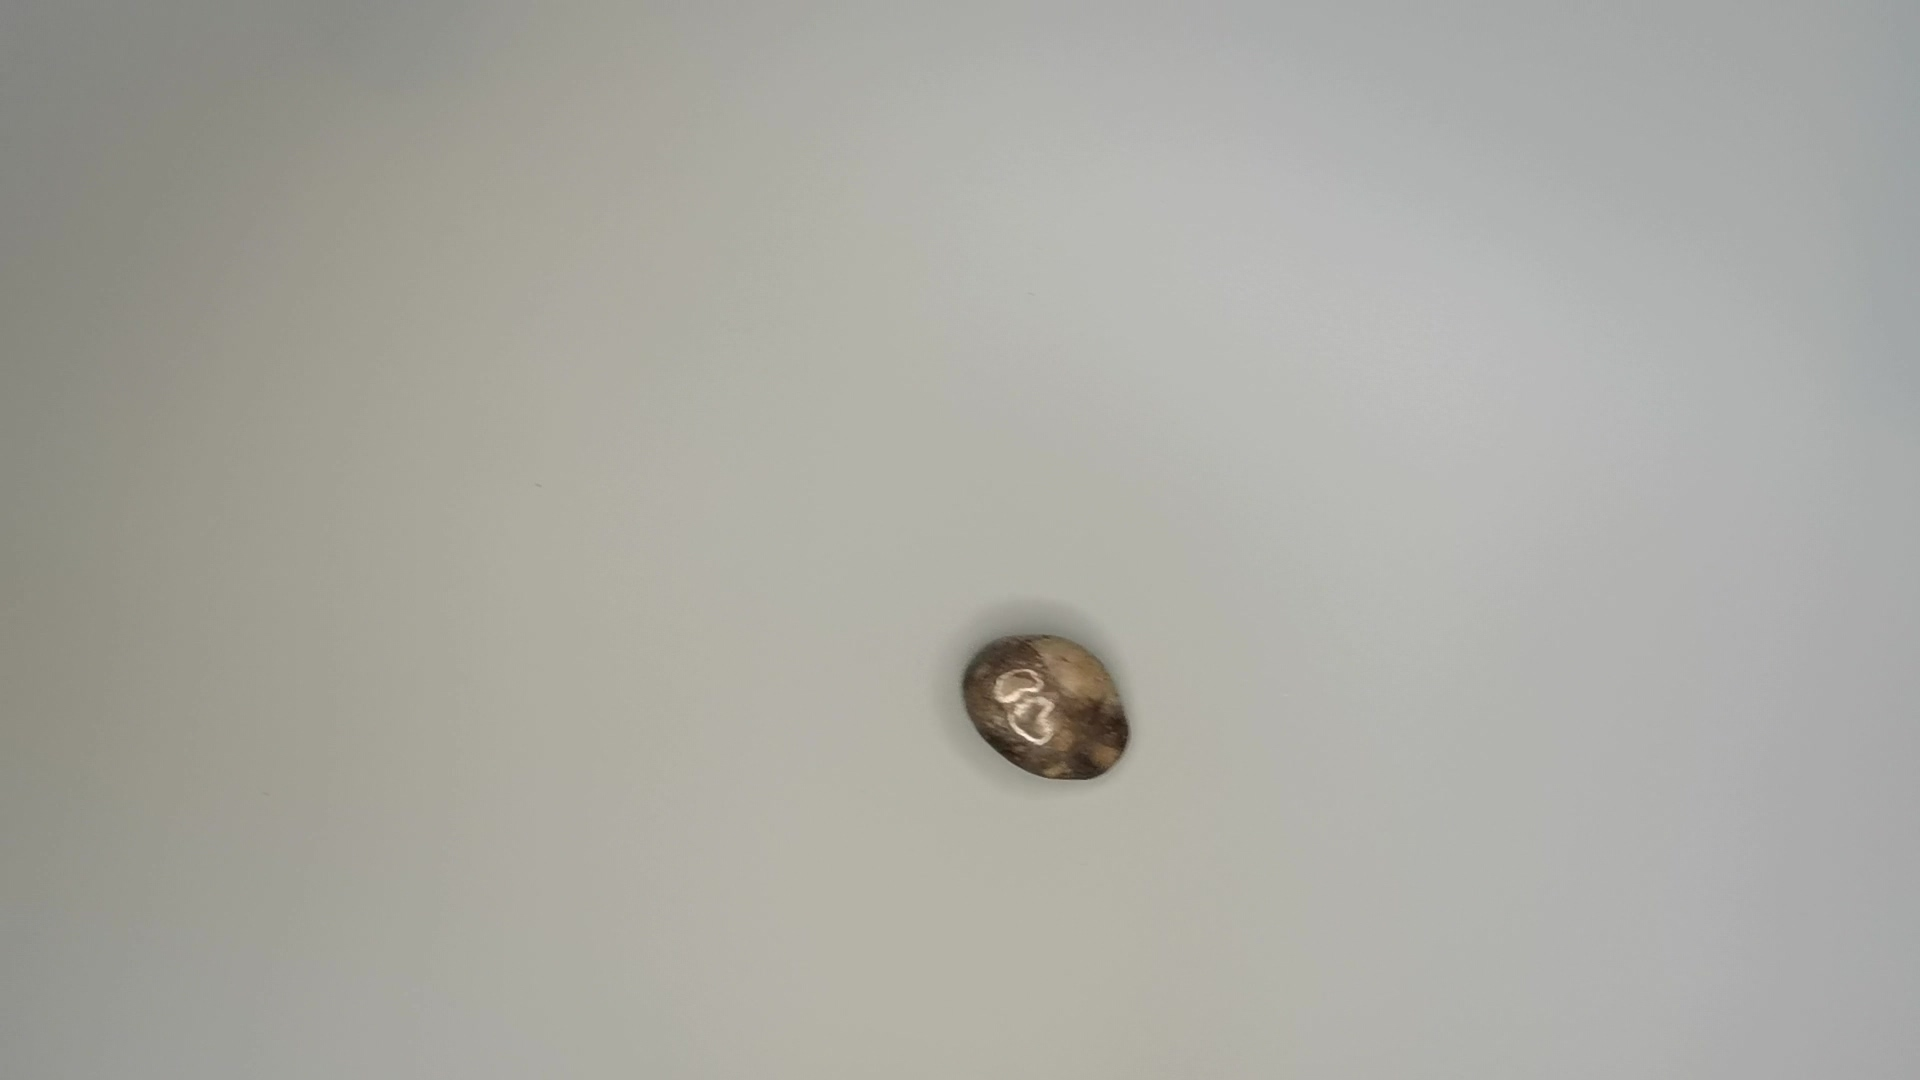ceramic: (955, 626, 1135, 789)
